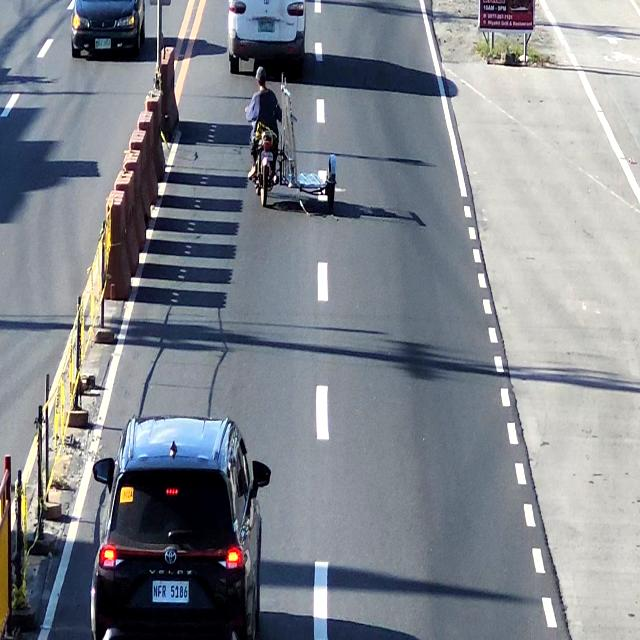Car: (92, 415, 264, 640), (228, 0, 306, 70)
License-Plate: (153, 578, 189, 606)
Tricycle: (240, 64, 342, 209)
